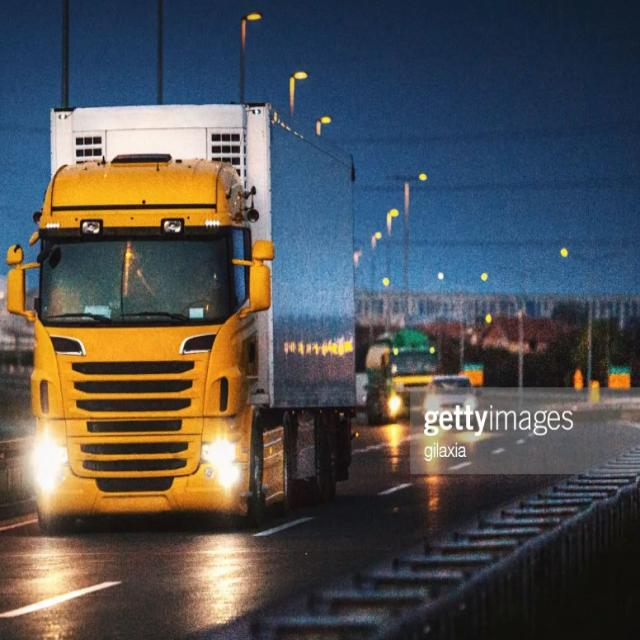car: (424, 375, 482, 423)
truck: (9, 106, 357, 525), (366, 331, 437, 423)
